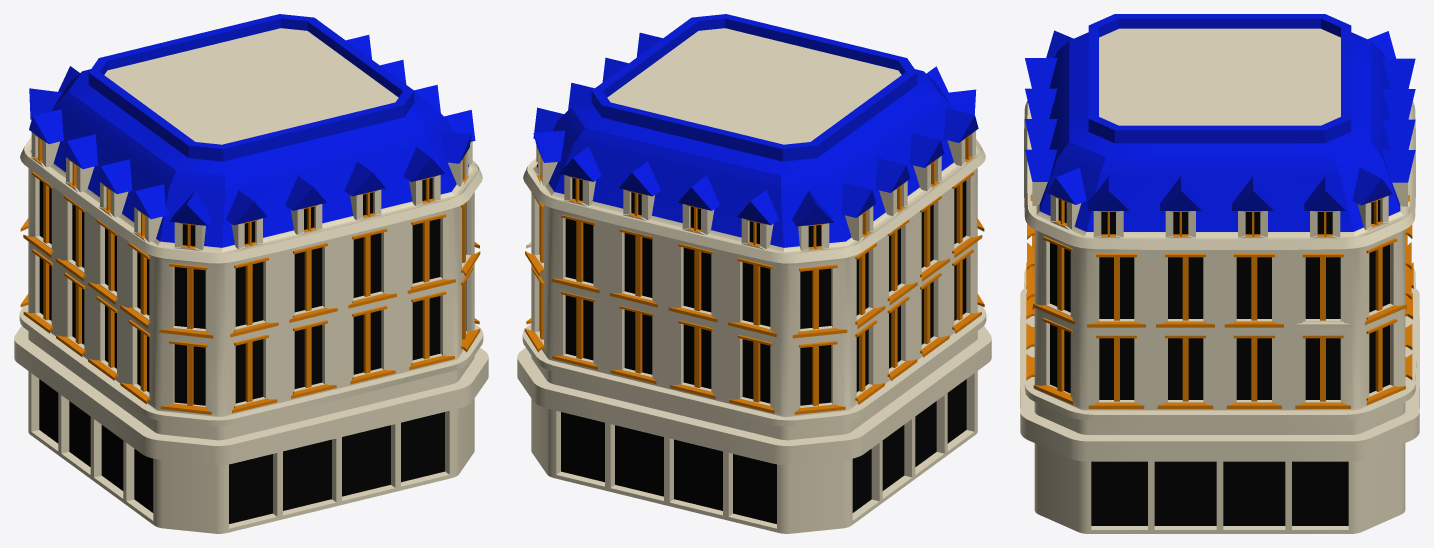
The model's file is house1.fbx.
The picture shows the model from 3 angles, left to right: view 1: azimuth 30°, elevation 25°; view 2: azimuth 150°, elevation 25°; view 3: azimuth 270°, elevation 25°; orthographic projection. The views are drawn at different scales.
Visible parts, largest first — view 1: house1; view 2: house1; view 3: house1.
Boxes of the visible parts, x1,y1,x2,y2 form: house1: (14,14,488,533); house1: (517,14,991,533); house1: (1020,14,1419,533).
Size of the model in its own units: 988 by 989 by 943.
